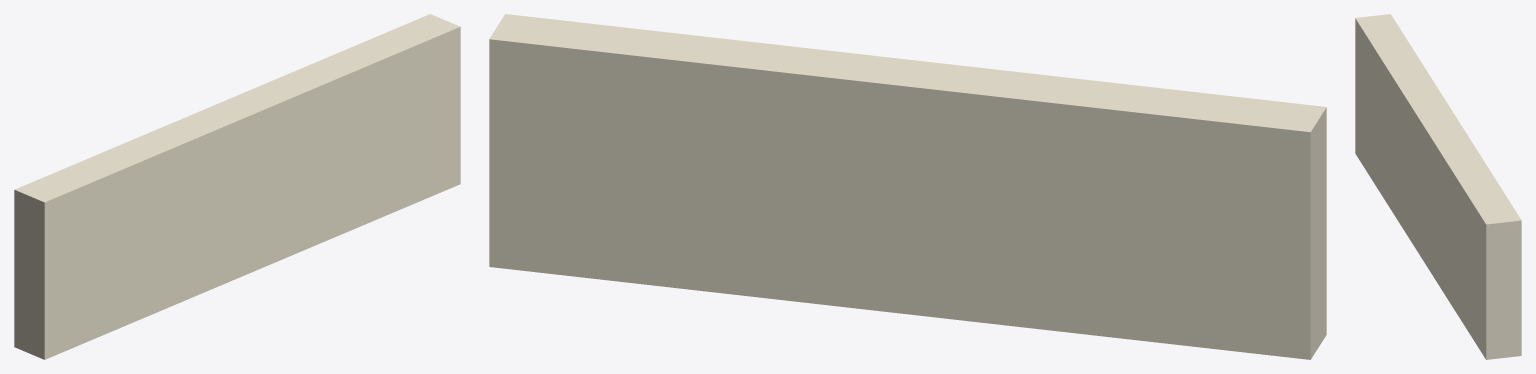
File: rail-15.glb
The picture shows the model from 3 angles, left to right: view 1: azimuth 30°, elevation 25°; view 2: azimuth 150°, elevation 25°; view 3: azimuth 270°, elevation 25°; orthographic projection. The views are drawn at different scales.
Bounding box in the file's own units: 2.17 × 0.65 × 0.724.
